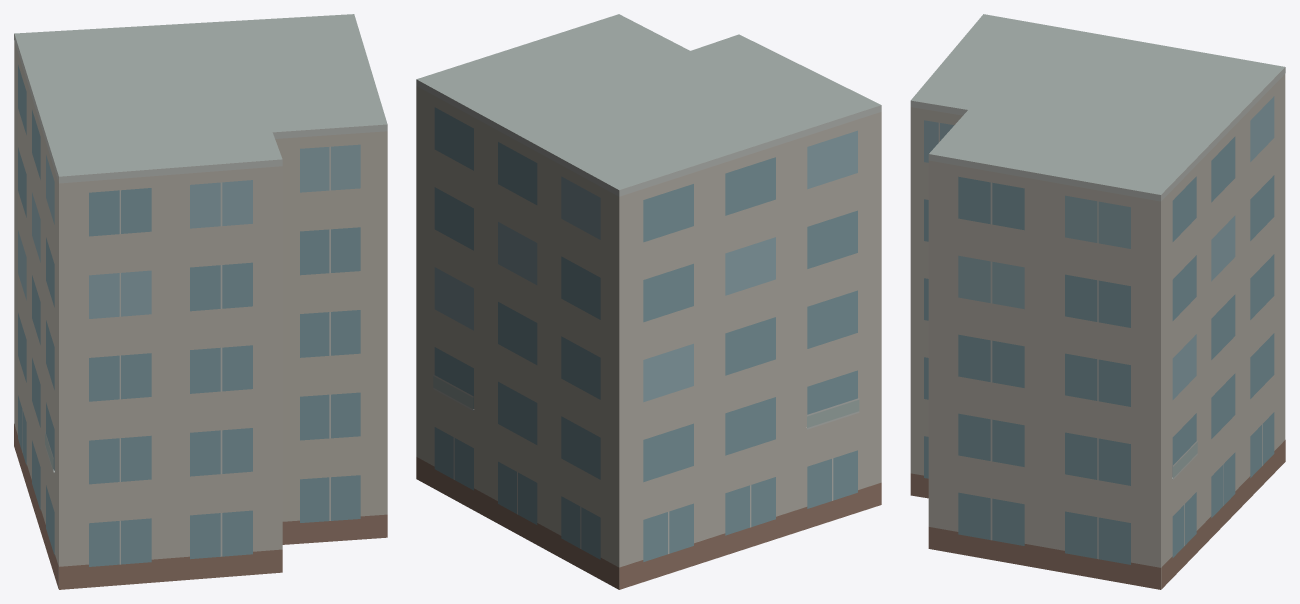
The model's file is survey-upis-32729227.glb.
The picture shows the model from 3 angles, left to right: view 1: azimuth 30°, elevation 25°; view 2: azimuth 150°, elevation 25°; view 3: azimuth 270°, elevation 25°; orthographic projection. The views are drawn at different scales.
Parts seen in each view (by area): view 1: survey-upis-32729227.tmp; view 2: survey-upis-32729227.tmp; view 3: survey-upis-32729227.tmp.
Part boxes in pixels (x1,y1,x2,y2): survey-upis-32729227.tmp: (14, 14, 387, 589); survey-upis-32729227.tmp: (416, 14, 881, 589); survey-upis-32729227.tmp: (910, 14, 1285, 589).
Size of the model in its own units: 14.56 by 14.8 by 12.74.
